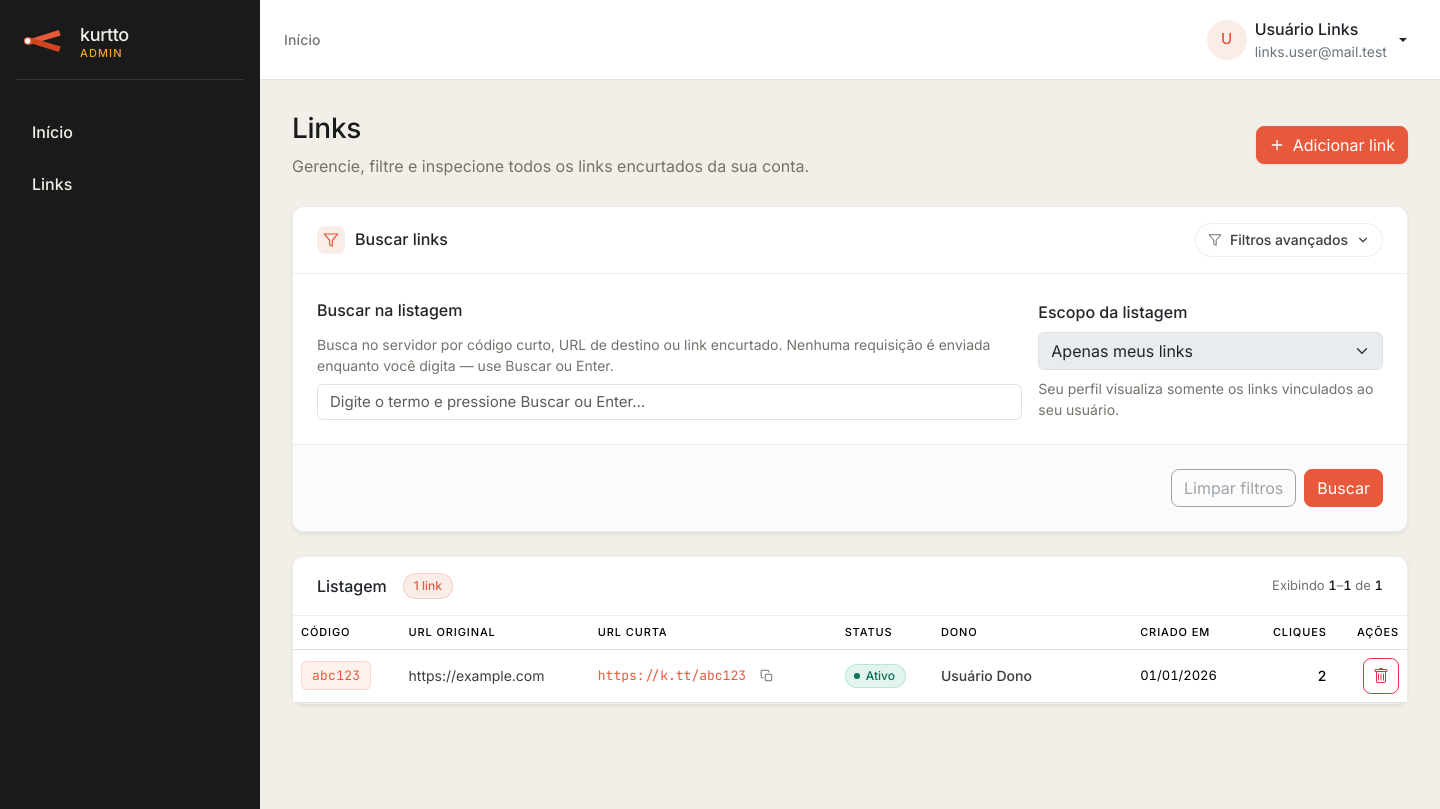
Scenario: Links › aplica filtro avançado de código curto e exibe resumo em chips
Check: the link "https://example.com" is shown, box left=409, top=667, right=545, bottom=684
Click the button "Filtros avançados": (1289, 240) left=1195, top=223, right=1383, bottom=257
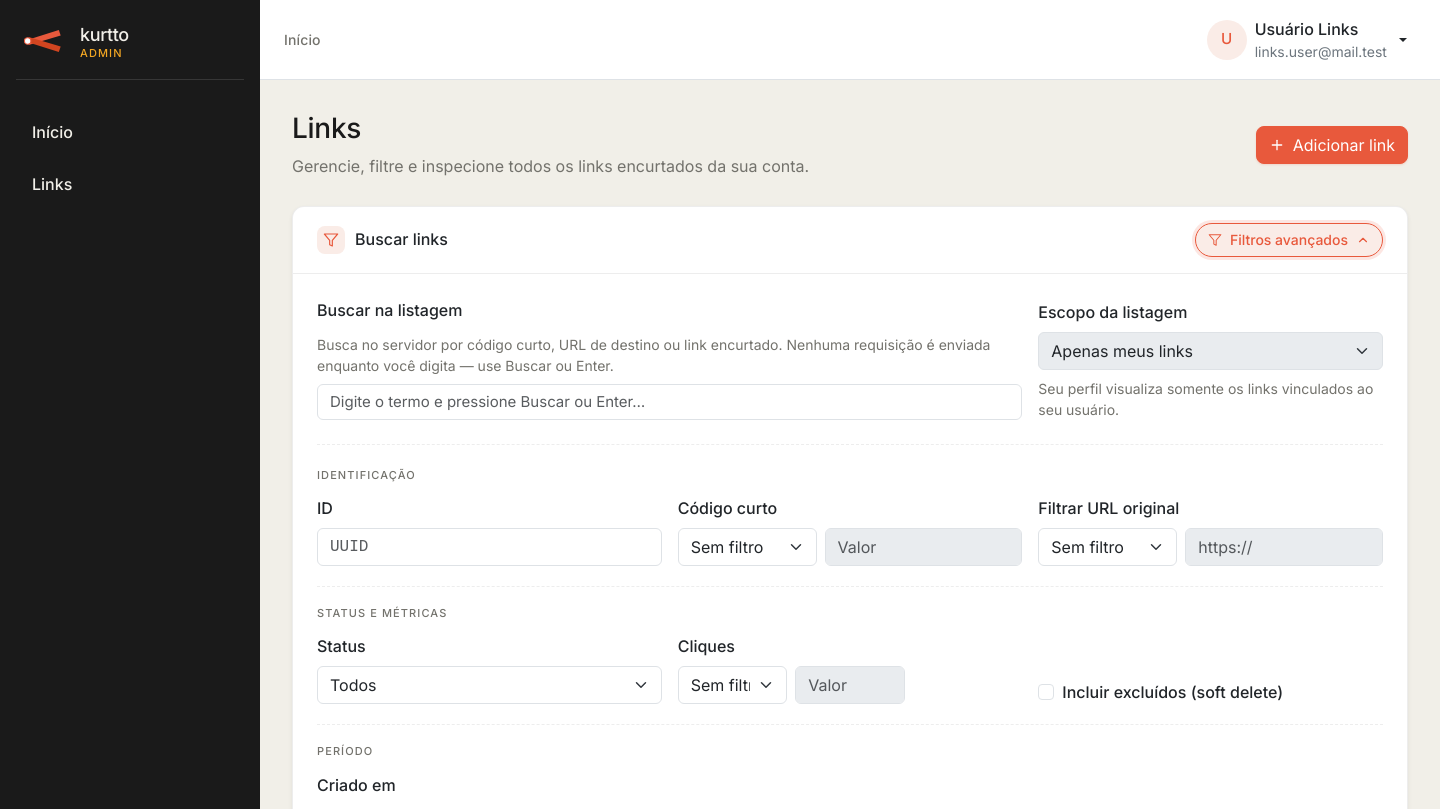
Select "Igual a" in the dropdown named "modo de filtro do código curto": (747, 547) left=678, top=528, right=817, bottom=566
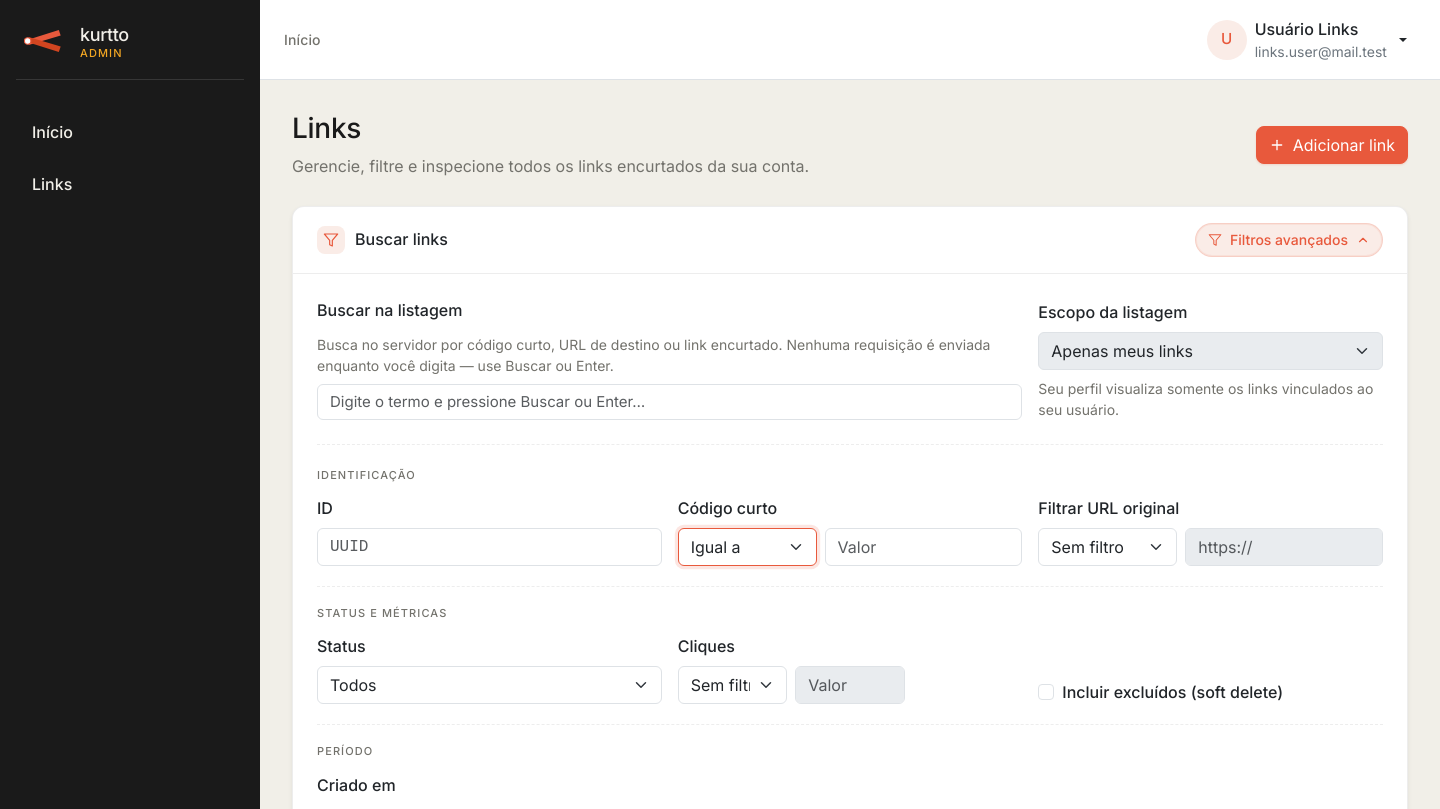
In the field named "valor do código curto": (923, 547) left=825, top=528, right=1022, bottom=566, type "xcode"
(page scrolled)
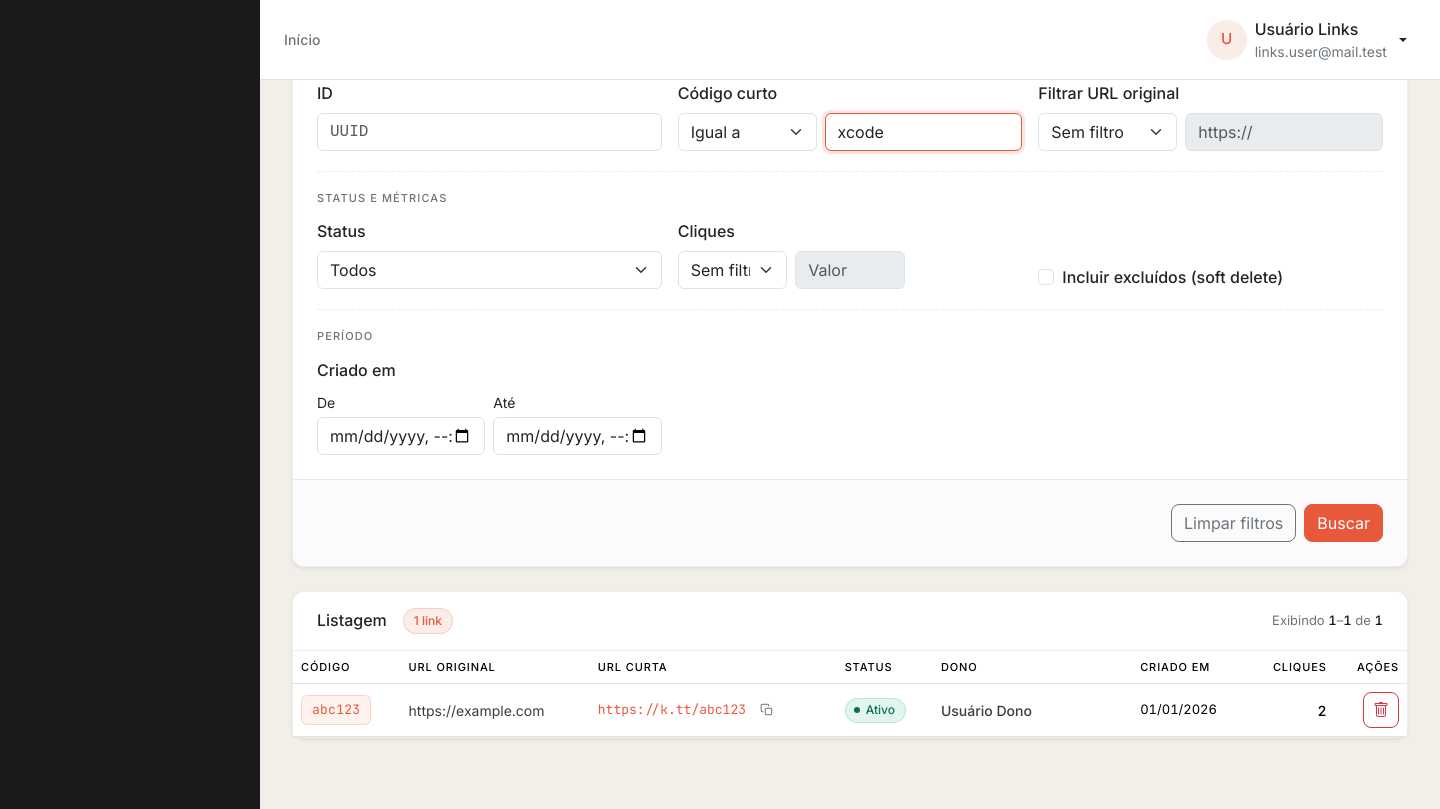
Click the button "Buscar": (1344, 523) left=1304, top=504, right=1383, bottom=542
(page scrolled)
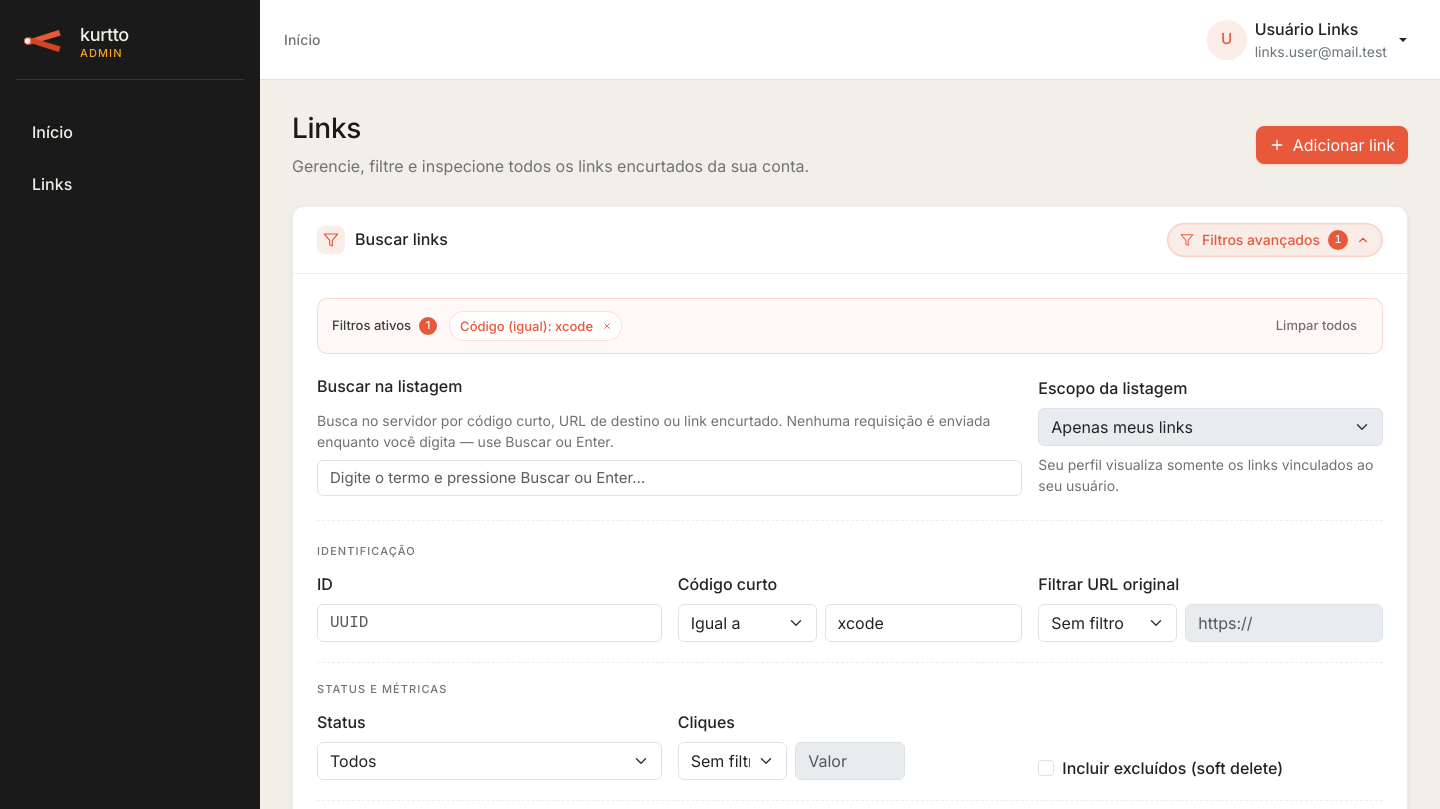
Check: the text "Código (igual): xcode" is shown, box left=460, top=316, right=593, bottom=335
